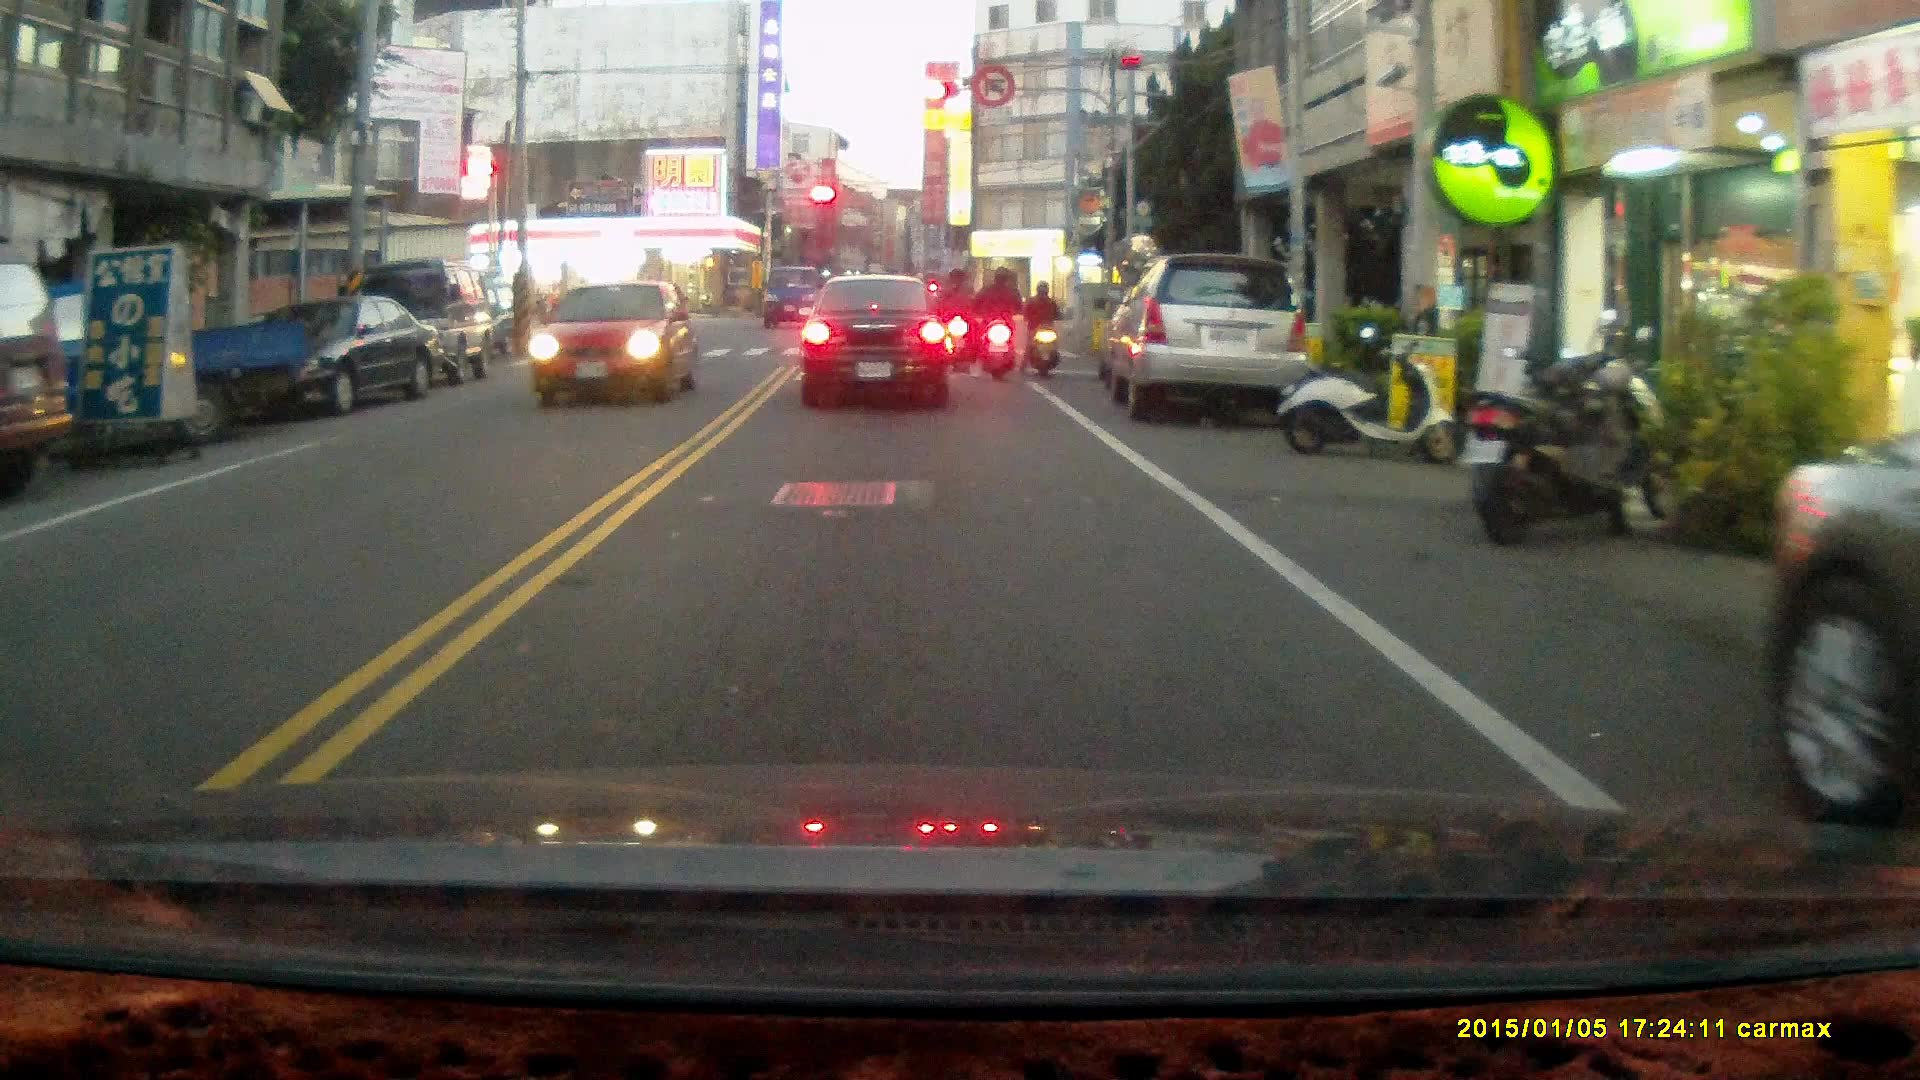rider: (968, 266, 1022, 385), (934, 267, 974, 374), (1020, 278, 1063, 381)
vehicle: (1762, 414, 1920, 827), (1103, 252, 1315, 429), (211, 293, 441, 415), (525, 277, 695, 406), (1, 238, 84, 500), (799, 271, 951, 412), (345, 255, 498, 392)
